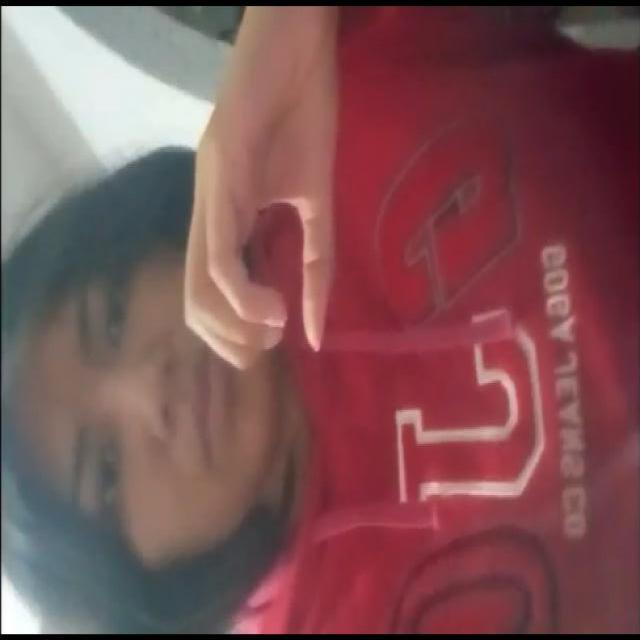C: (159, 2, 382, 381)
